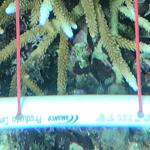alive: (1, 2, 149, 94)
